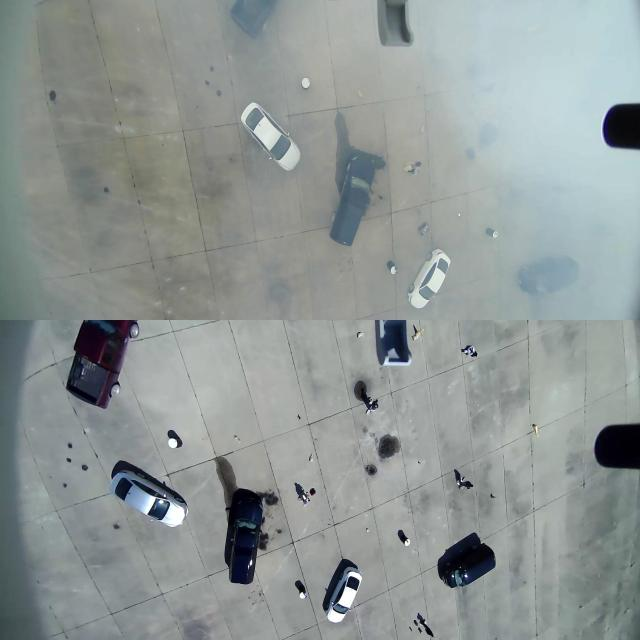car: (236, 91, 304, 182), (330, 136, 374, 258), (108, 460, 188, 526), (502, 251, 587, 306), (324, 556, 374, 640), (227, 486, 264, 584), (411, 235, 453, 314), (438, 530, 495, 587)
truck: (66, 318, 134, 410)
